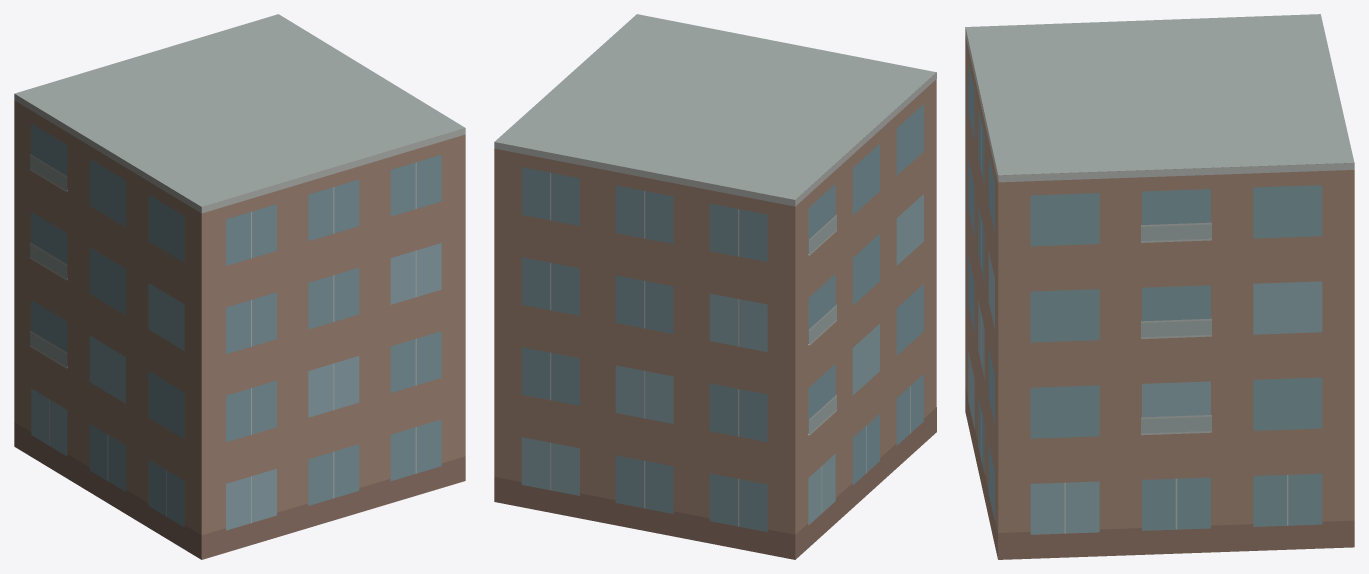
The model's file is survey-upis-32926553.glb.
3 renders of one model, left to right at view 1: azimuth 30°, elevation 25°; view 2: azimuth 150°, elevation 25°; view 3: azimuth 270°, elevation 25°, orthographic. The views are drawn at different scales.
Visible parts, largest first — view 1: survey-upis-32926553.tmp; view 2: survey-upis-32926553.tmp; view 3: survey-upis-32926553.tmp.
Boxes of the visible parts, <box> form: survey-upis-32926553.tmp: <box>14,14,465,559</box>; survey-upis-32926553.tmp: <box>494,14,936,559</box>; survey-upis-32926553.tmp: <box>965,14,1354,559</box>.
Size of the model in its own units: 11.88 by 13.2 by 12.11.
